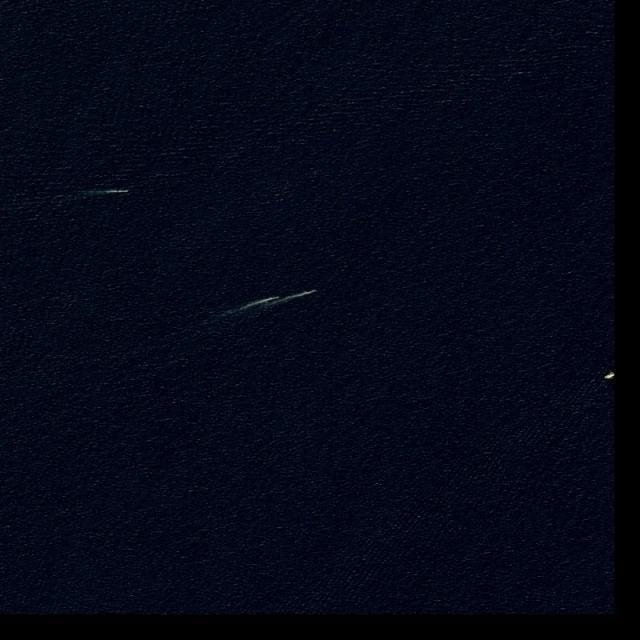ship: (604, 374, 614, 379), (126, 190, 129, 193), (314, 290, 317, 292), (277, 297, 280, 298)
